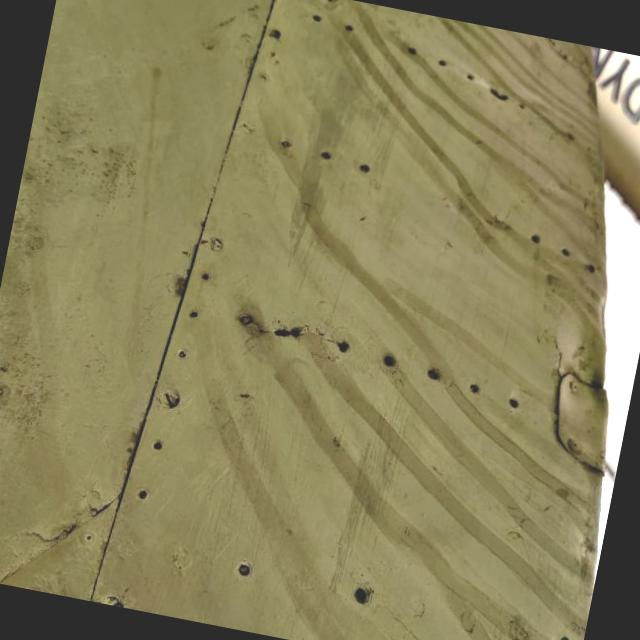crack: (264, 307, 320, 358), (478, 76, 517, 112)
